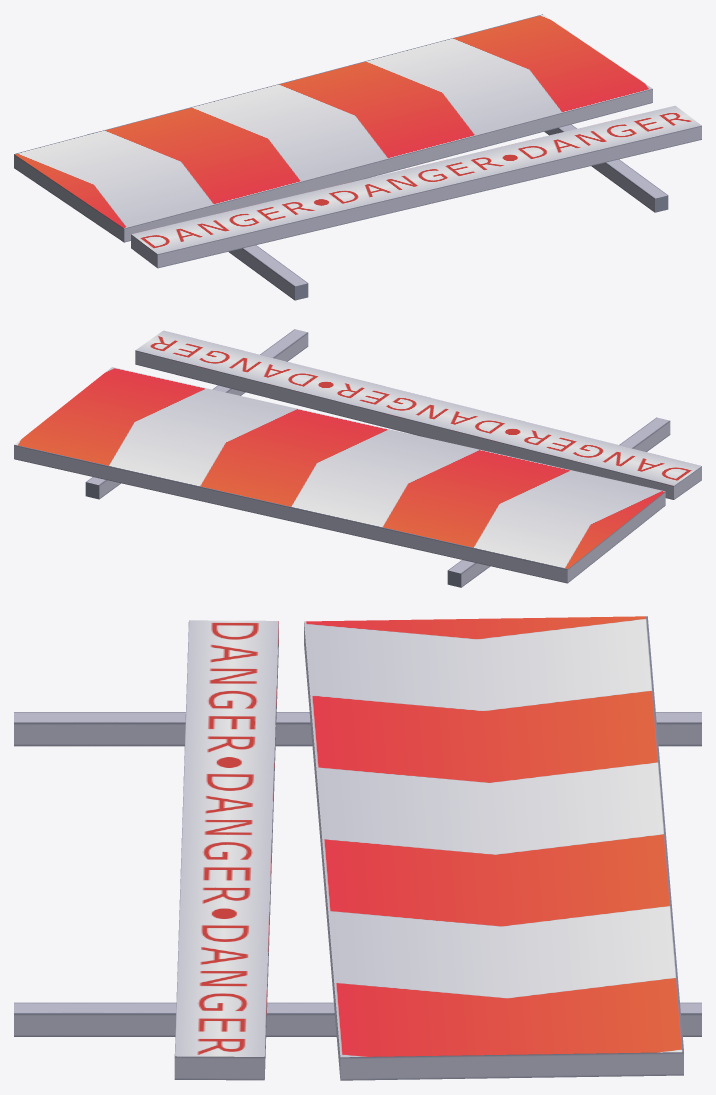
Rendered from danger_sign.fbx.
3 views of the same model, one above another, from view 1: azimuth 30°, elevation 25°; view 2: azimuth 150°, elevation 25°; view 3: azimuth 270°, elevation 25° (orthographic). The views are drawn at different scales.
Visible parts, largest first — view 1: directional_sign; view 2: directional_sign; view 3: directional_sign.
Boxes of the visible parts, left/top/right/bottom form: directional_sign: left=14, top=14, right=701, bottom=300; directional_sign: left=14, top=329, right=701, bottom=587; directional_sign: left=14, top=616, right=701, bottom=1080.
Bounding box in the file's own units: 2.43 × 0.12 × 1.6.
